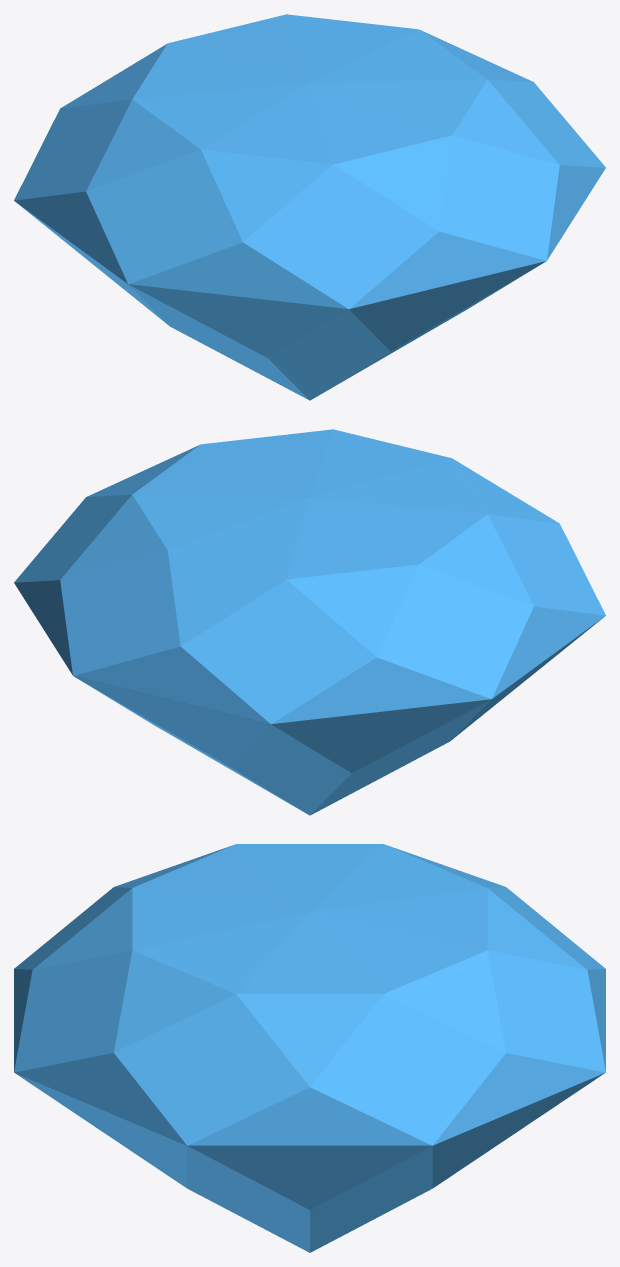
Rendered from diamond.gltf.
3 views of the same model, one above another, from view 1: azimuth 30°, elevation 25°; view 2: azimuth 150°, elevation 25°; view 3: azimuth 270°, elevation 25° (orthographic). The views are drawn at different scales.
Visible parts, largest first — view 1: Gem; view 2: Gem; view 3: Gem.
Part boxes in pixels (x1,y1,x2,y2): Gem: (14, 14, 605, 400); Gem: (14, 429, 605, 815); Gem: (14, 844, 605, 1252).
Size of the model in its own units: 25 by 15.89 by 25.
